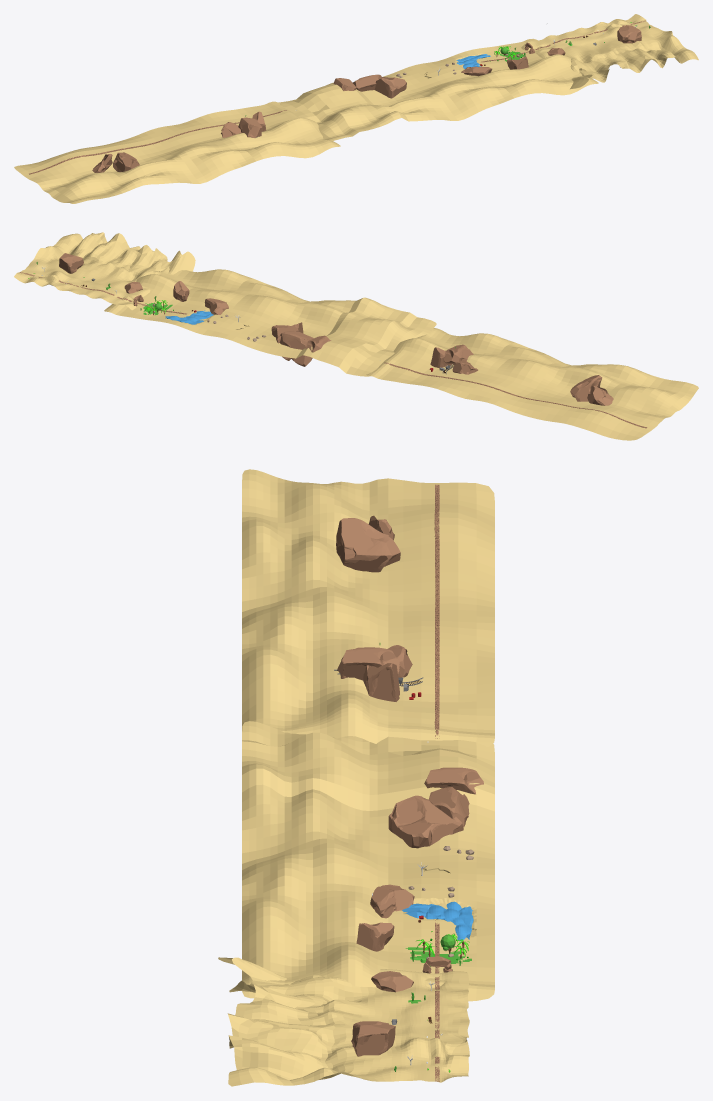
File: A boy and his cross MAP.fbx
3 views of the same model, one above another, from view 1: azimuth 30°, elevation 25°; view 2: azimuth 150°, elevation 25°; view 3: azimuth 270°, elevation 25° (orthographic). The views are drawn at different scales.
Visible parts, largest first — view 1: Plane, Cube.018, Cube.004, Cube.025, Cube.005, Cube.022, Cube.019; view 2: Plane, Cube.019, Cube.025, Cube.004, Cube.022, Cube.026, Cube.005, Plane.002; view 3: Plane, Cube.025, Cube.018, Cube.005, Cube.022, Plane.002, Cube.004, Cube.021, Cube.020, Cube.017, Cube.019.
Part boxes in pixels (x1,y1,x2,y2): Plane: (14,14,698,203); Cube.018: (374,77,406,98); Cube.004: (29,110,286,174); Cube.025: (113,152,139,171); Cube.005: (617,25,641,43); Cube.022: (238,117,262,137); Cube.019: (352,74,381,91); Plane: (14,232,698,440); Cube.019: (279,331,313,366); Cube.025: (570,375,602,401); Cube.004: (384,362,647,428); Cube.022: (443,344,473,365); Cube.026: (587,386,613,405); Cube.005: (59,253,83,273); Plane.002: (165,310,213,324); Plane: (218,469,494,1086); Cube.025: (336,518,400,572); Cube.018: (388,795,463,848); Cube.005: (351,1021,395,1056); Cube.022: (337,647,399,680); Plane.002: (402,901,473,941); Cube.004: (434,484,439,738); Cube.021: (363,663,399,701); Cube.020: (424,767,483,794); Cube.017: (370,884,414,918); Cube.019: (428,787,469,827).
Size of the model in its own units: 191611 by 17231 by 36789.
